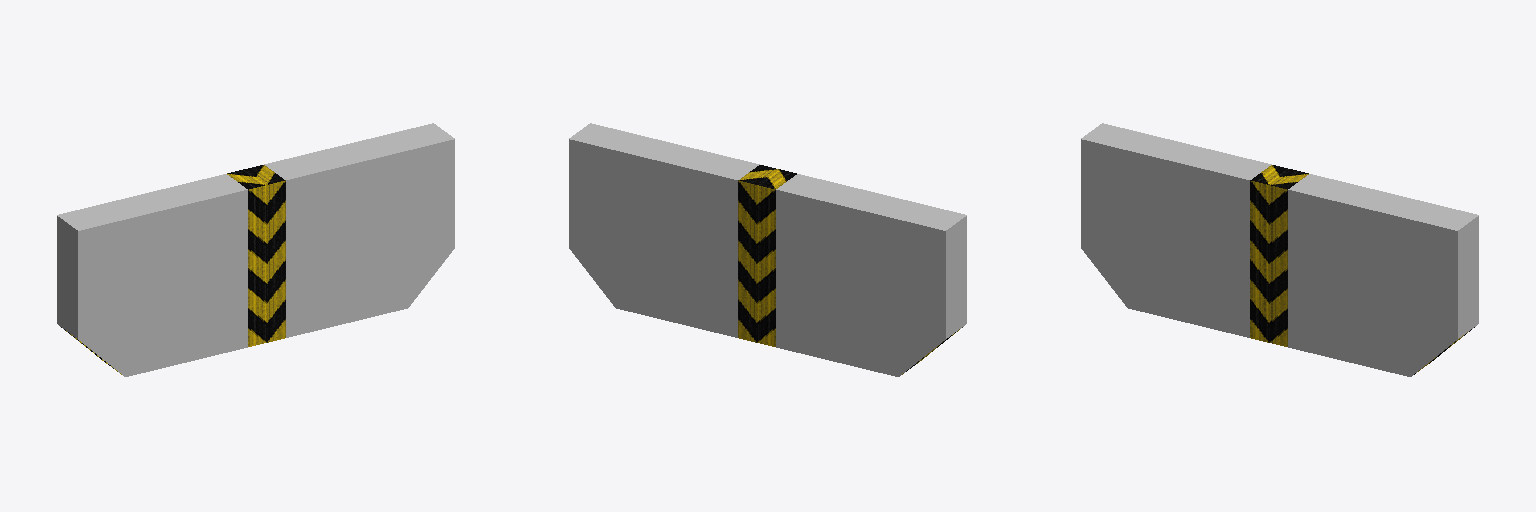
3 views of the same model, side by side, from view 1: azimuth 30°, elevation 25°; view 2: azimuth 150°, elevation 25°; view 3: azimuth 330°, elevation 25° (orthographic).
Parts seen in each view (by area): view 1: bunker_maindoor; view 2: bunker_maindoor; view 3: bunker_maindoor.
Part boxes in pixels (x1,y1,x2,y2): bunker_maindoor: (57, 123, 454, 376); bunker_maindoor: (569, 123, 966, 376); bunker_maindoor: (1081, 123, 1478, 376).
Bounding box in the file's own units: 7.8 × 3.12 × 0.7803.
Materials: 2 (1 with a texture image).